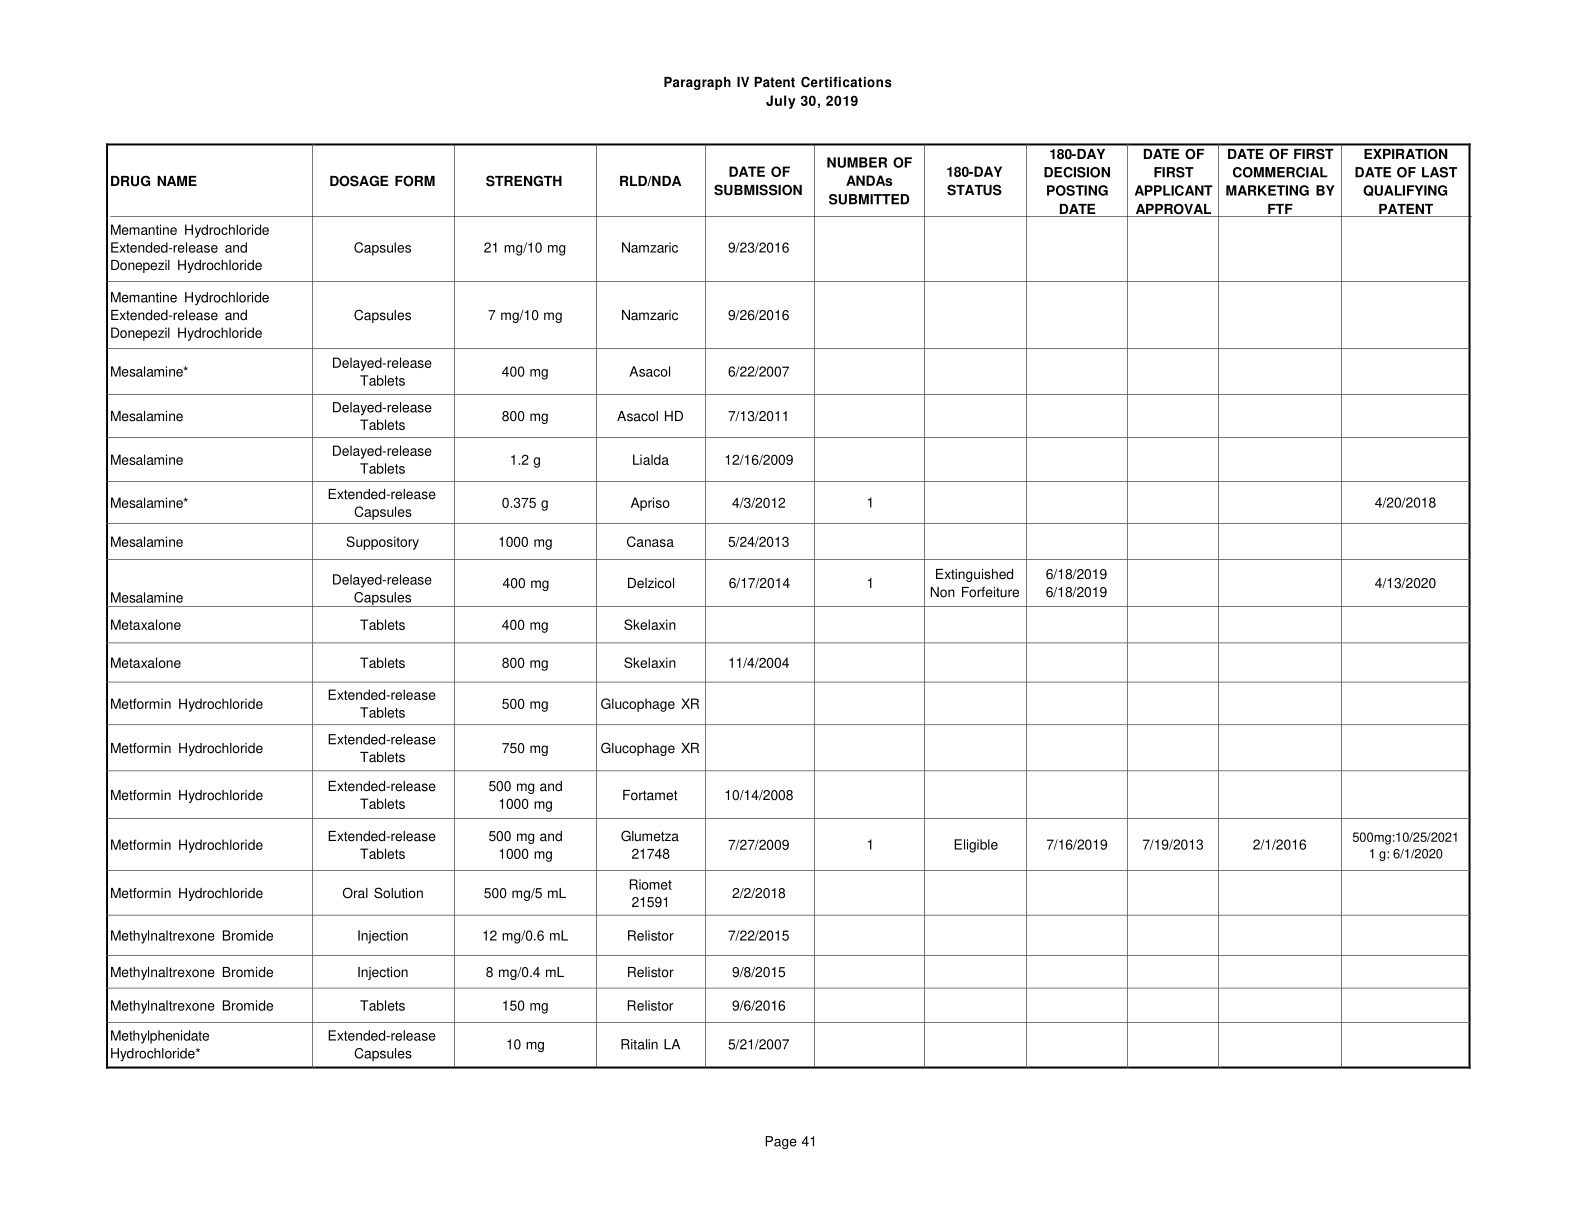full_lined: (105, 143, 1471, 1070)
